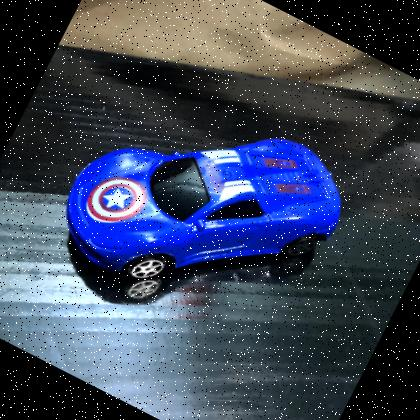Car: (64, 139, 341, 279)
